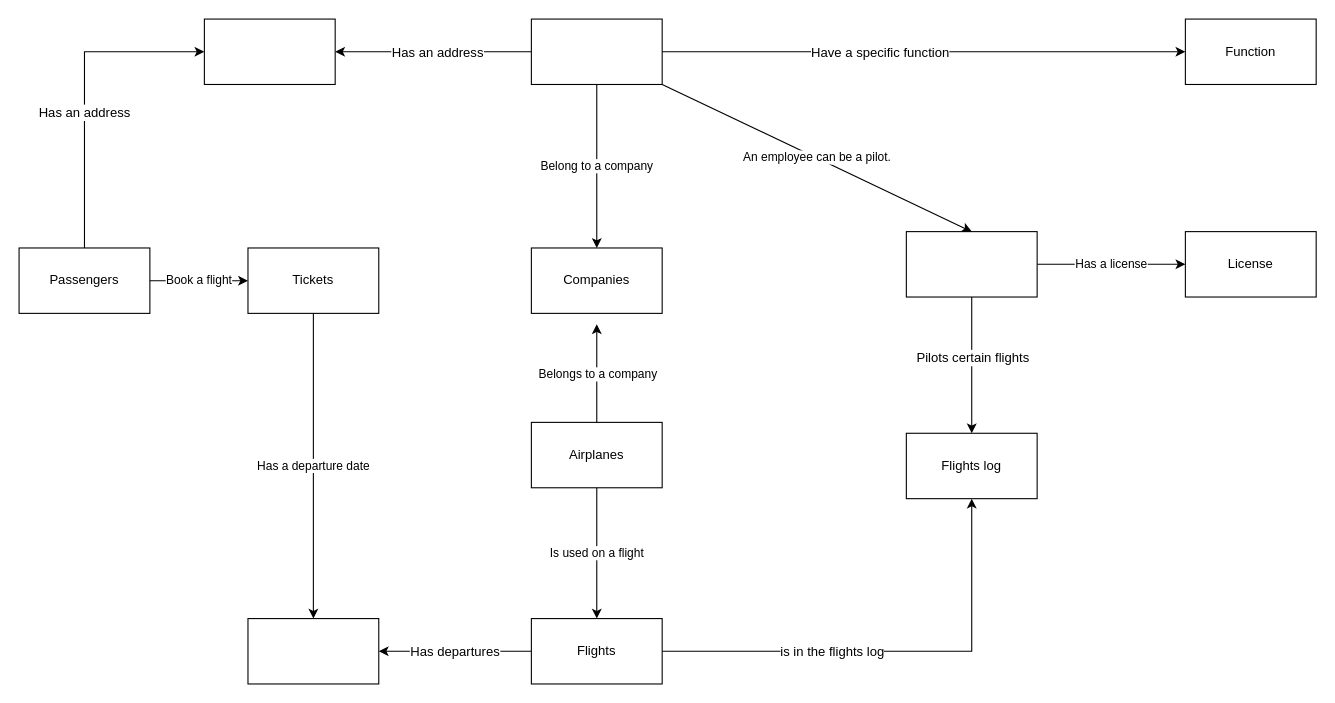
Some shapes in this 1335 by 703 pixel diagram are drawn without their labels. The box of each missing label's shape, as (x1, y1, x2, y2) in pixels:
Address: (203, 18, 335, 84)
Departures: (247, 617, 379, 684)
Employees: (530, 18, 662, 84)
Pilot: (905, 231, 1037, 297)
